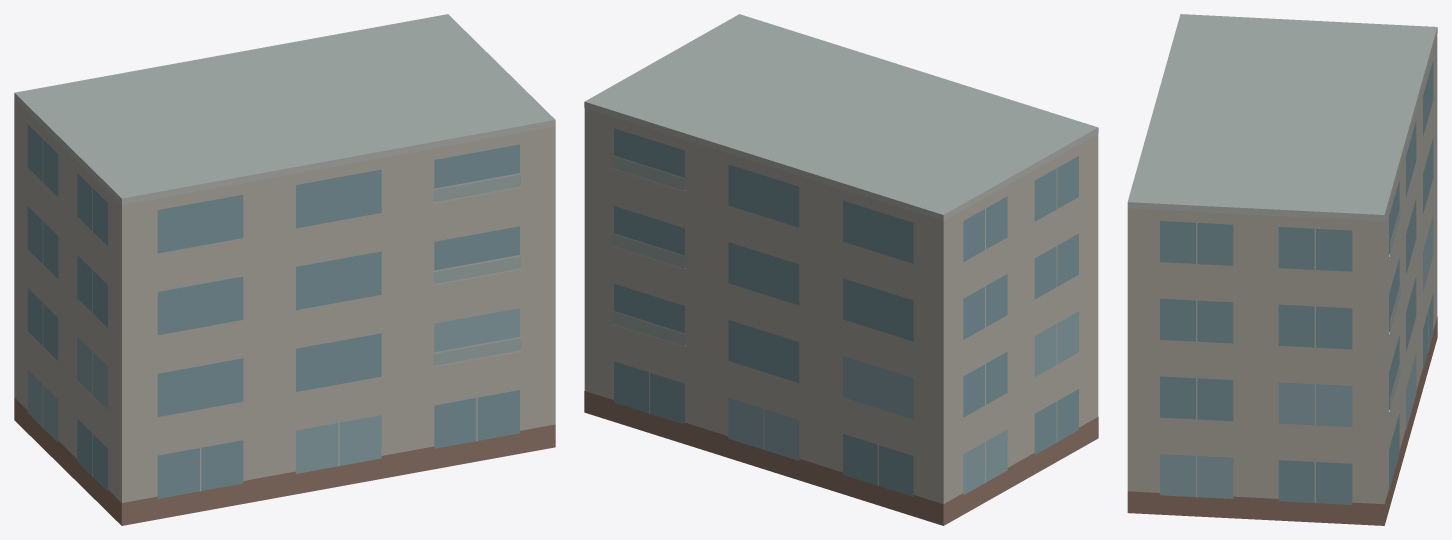
File: residential-cc3900fc-9747-41a4-80fd-3db11b035e77.glb
The picture shows the model from 3 angles, left to right: view 1: azimuth 30°, elevation 25°; view 2: azimuth 150°, elevation 25°; view 3: azimuth 270°, elevation 25°; orthographic projection. The views are drawn at different scales.
Visible parts, largest first — view 1: residential-cc3900fc-9747-41a4-80fd-3db11b035e77.tmp; view 2: residential-cc3900fc-9747-41a4-80fd-3db11b035e77.tmp; view 3: residential-cc3900fc-9747-41a4-80fd-3db11b035e77.tmp.
Part boxes in pixels (x1=…): residential-cc3900fc-9747-41a4-80fd-3db11b035e77.tmp: x1=14, y1=14, x2=555, y2=525; residential-cc3900fc-9747-41a4-80fd-3db11b035e77.tmp: x1=584, y1=14, x2=1098, y2=525; residential-cc3900fc-9747-41a4-80fd-3db11b035e77.tmp: x1=1127, y1=14, x2=1437, y2=525.
Size of the model in its own units: 16.93 by 12.2 by 11.03.
